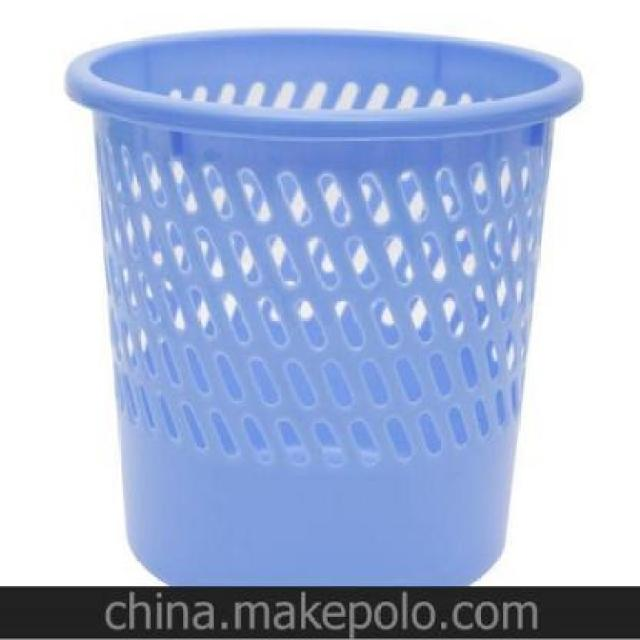dustbin: (58, 21, 587, 587)
